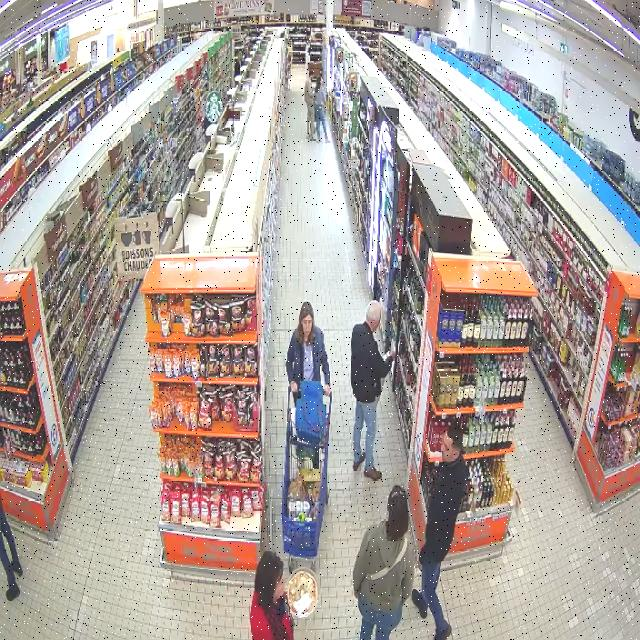article: (286, 570, 317, 617), (382, 351, 392, 360)
bags: (295, 381, 325, 444)
hands: (323, 383, 331, 397), (290, 383, 297, 392), (389, 350, 395, 357)
person: (412, 424, 466, 639), (353, 484, 413, 639), (350, 301, 394, 479), (285, 302, 330, 401), (250, 551, 294, 639)
